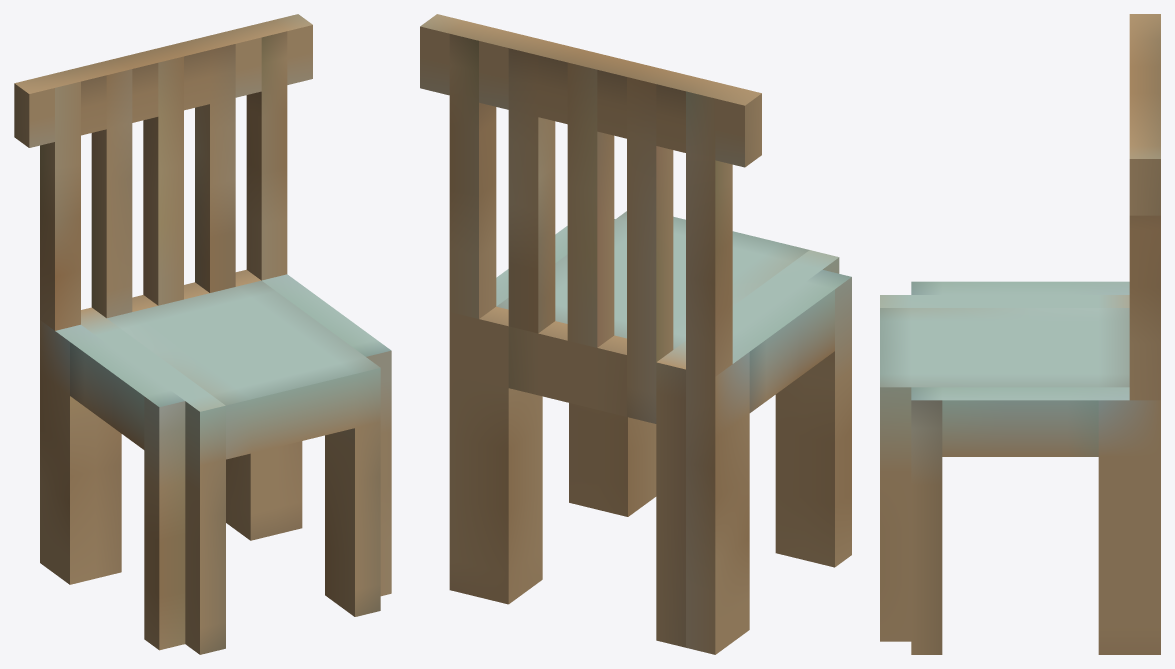
Rendered from ChairBirchBlueSeat_00.obj.
3 renders of one model, left to right at view 1: azimuth 30°, elevation 25°; view 2: azimuth 150°, elevation 25°; view 3: azimuth 270°, elevation 25°, orthographic. The views are drawn at different scales.
Visible parts, largest first — view 1: ChairBirchBlueSeat_00; view 2: ChairBirchBlueSeat_00; view 3: ChairBirchBlueSeat_00.
Part boxes in pixels (bbox=[...]): ChairBirchBlueSeat_00: bbox=[14, 14, 391, 654]; ChairBirchBlueSeat_00: bbox=[420, 14, 851, 654]; ChairBirchBlueSeat_00: bbox=[880, 14, 1160, 654].
Bounding box in the file's own units: 0.55 × 0.9 × 0.45.
